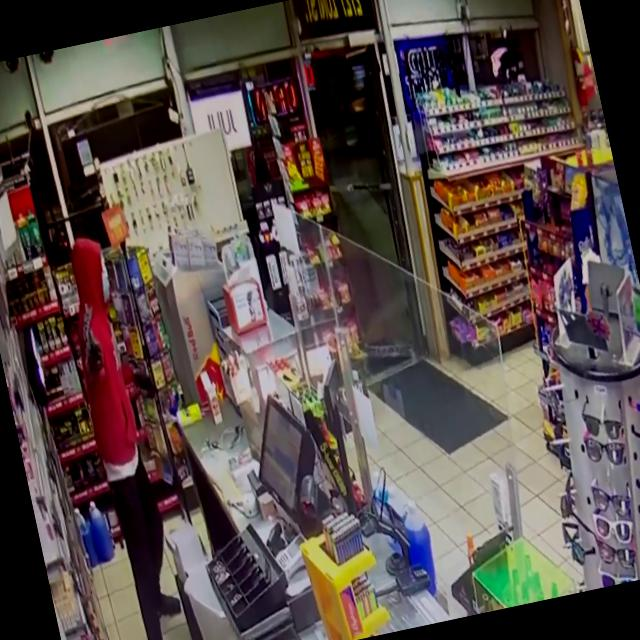handgun: (75, 323, 118, 377)
